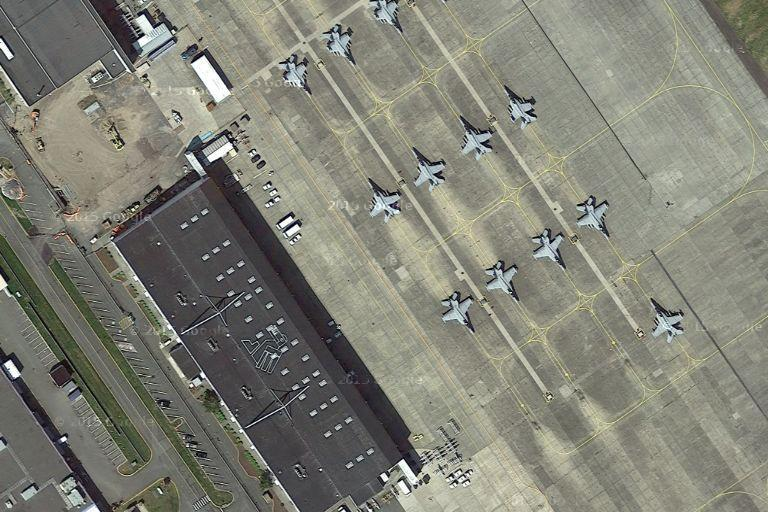F/A-18: (644, 293, 688, 348), (480, 261, 528, 307), (435, 291, 481, 336), (365, 176, 407, 224), (454, 115, 495, 162), (528, 226, 571, 269), (409, 147, 448, 192), (501, 86, 539, 132), (319, 26, 360, 66), (573, 197, 613, 238), (274, 55, 315, 93), (366, 1, 406, 35)
